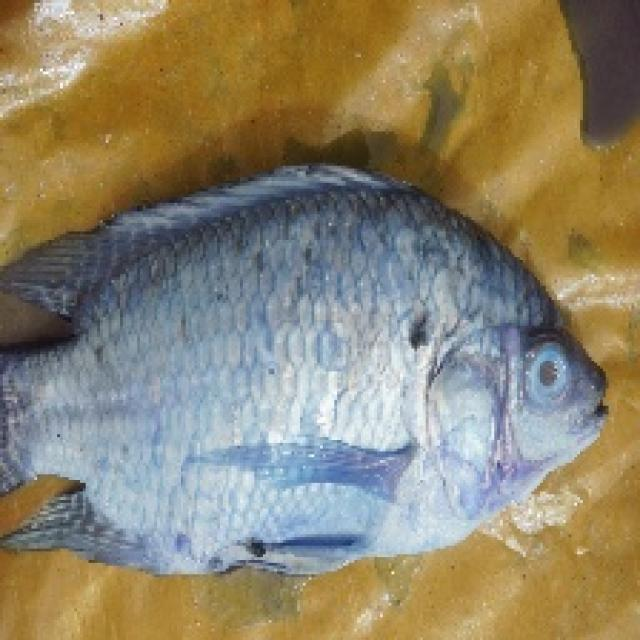Non-Fresh: (86, 188, 598, 553), (516, 332, 576, 413)
